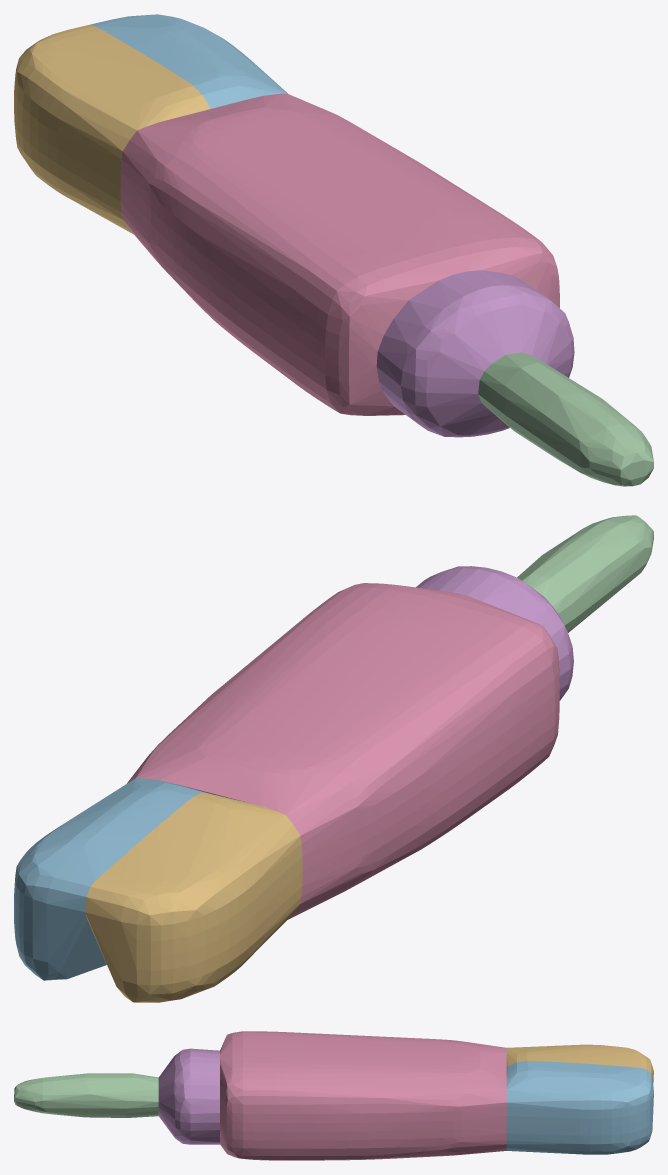
Rendered from repair_tools_collision.glb.
3 renders of one model, top to bottom at view 1: azimuth 30°, elevation 25°; view 2: azimuth 150°, elevation 25°; view 3: azimuth 270°, elevation 25°, orthographic. The views are drawn at different scales.
Visible parts, largest first — view 1: world; view 2: world; view 3: world.
Part boxes in pixels (<box>): world: <box>14,14,653,486</box>; world: <box>14,515,653,1002</box>; world: <box>14,1031,653,1160</box>.
Size of the model in its own units: 0.0663 by 0.0402 by 0.2737.
